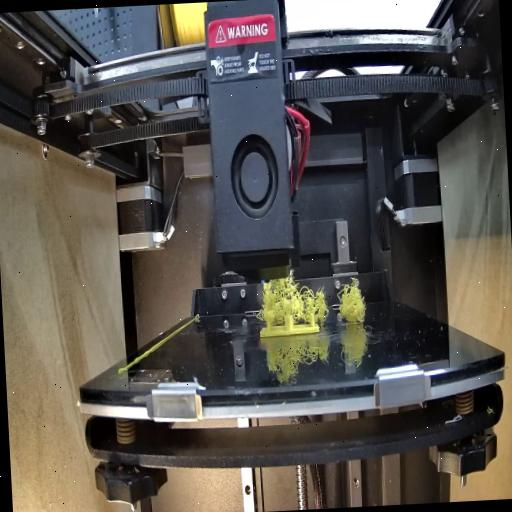spaghetti: (258, 272, 330, 323), (338, 276, 370, 323)
